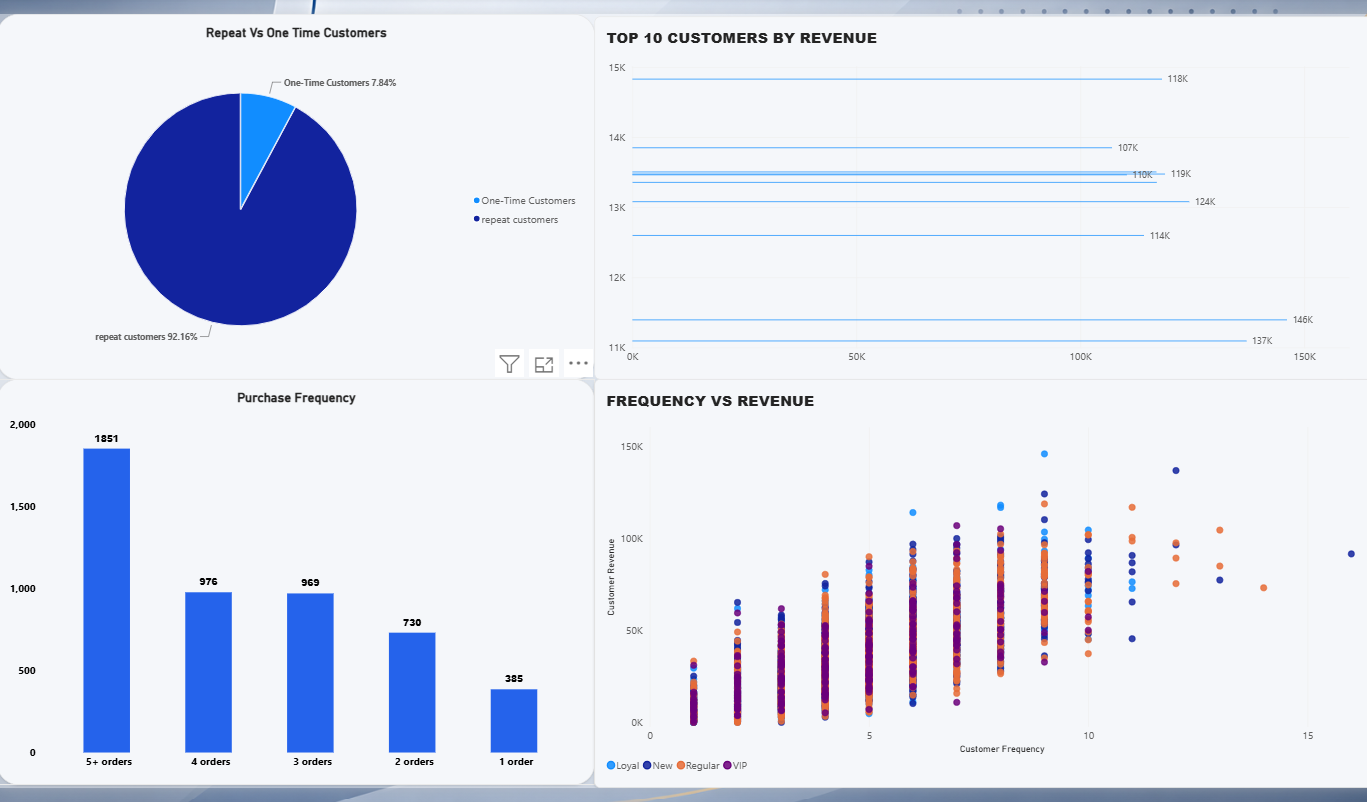

What the dashboard file says about the page in this screenshot:
{"tool":"powerbi","page":{"name":"Page 3","canvas":[1920,1080],"ordinal":2},"visuals":[{"type":"pieChart","title":"Repeat Vs One Time Customers","fields":{"Y":["Customer_Summary.One-Time Customers","Customer_Summary.repeat customers"]},"box":[0,0,834,510],"z":0},{"type":"clusteredColumnChart","title":"Purchase Frequency","fields":{"Category":["Customer Purchase Frequency.frequency_band"],"Y":["CountNonNull(Customer Purchase Frequency.Customer_ID)"]},"box":[0,510,834,566],"z":1},{"type":"scatterChart","title":"FREQUENCY VS REVENUE","fields":{"Category":["Customers.Customer_ID"],"Series":["Customers.Customer_Segment"],"X":["Customer Purchase Frequency.Customer Frequency"],"Y":["Customer Purchase Frequency.Customer Revenue"]},"box":[834,510,1086,570],"z":2},{"type":"clusteredBarChart","title":"TOP 10 CUSTOMERS BY REVENUE","fields":{"Category":["Customers.Customer_ID"],"Y":["Customer_Summary.Total Revenue"]},"box":[834,4,1086,506],"z":3}]}

Visuals, with their boxes on the page's 1920x1080 design canvas (x1, y1, x2, y2). These are canvas units, not pixel positions in the 1367x802 screenshot, which may show the page scaled, cropped or inside an application window:
"Repeat Vs One Time Customers" pieChart: crop(0, 0, 834, 510)
"Purchase Frequency" clusteredColumnChart: crop(0, 510, 834, 1076)
"FREQUENCY VS REVENUE" scatterChart: crop(834, 510, 1920, 1080)
"TOP 10 CUSTOMERS BY REVENUE" clusteredBarChart: crop(834, 4, 1920, 510)
